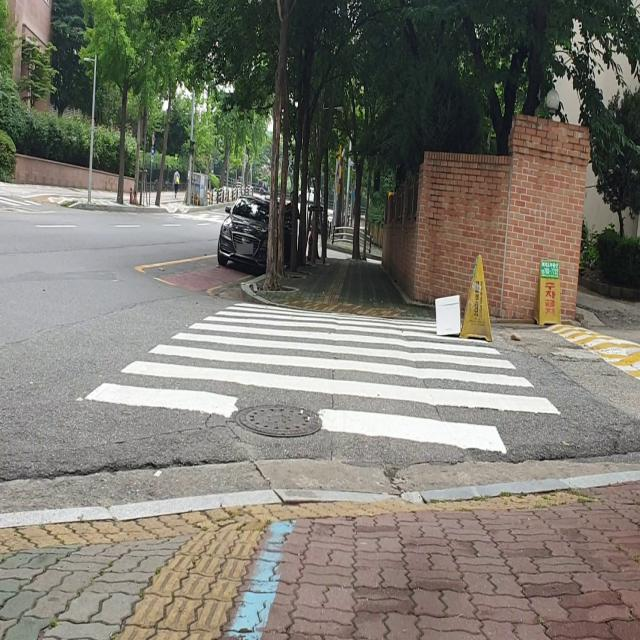횡단보도: (83, 299, 563, 459)
